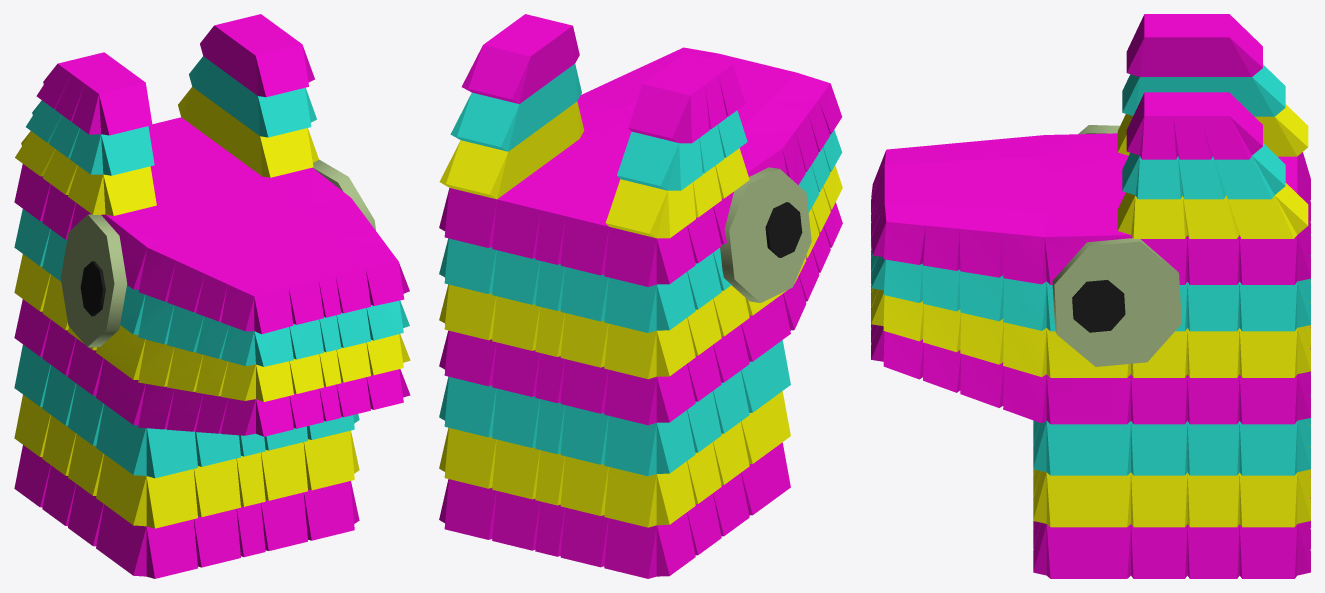
The model's file is M_ACC_Hat_F.FBX.
3 renders of one model, left to right at view 1: azimuth 30°, elevation 25°; view 2: azimuth 150°, elevation 25°; view 3: azimuth 270°, elevation 25°, orthographic. The views are drawn at different scales.
Parts seen in each view (by area): view 1: M_ACC_Hat_F; view 2: M_ACC_Hat_F; view 3: M_ACC_Hat_F.
Boxes of the visible parts, x1,y1,x2,y2 form: M_ACC_Hat_F: (14,14,410,578); M_ACC_Hat_F: (439,14,842,578); M_ACC_Hat_F: (871,14,1310,578).
Bounding box in the file's own units: 69.69 × 109 × 94.28.
